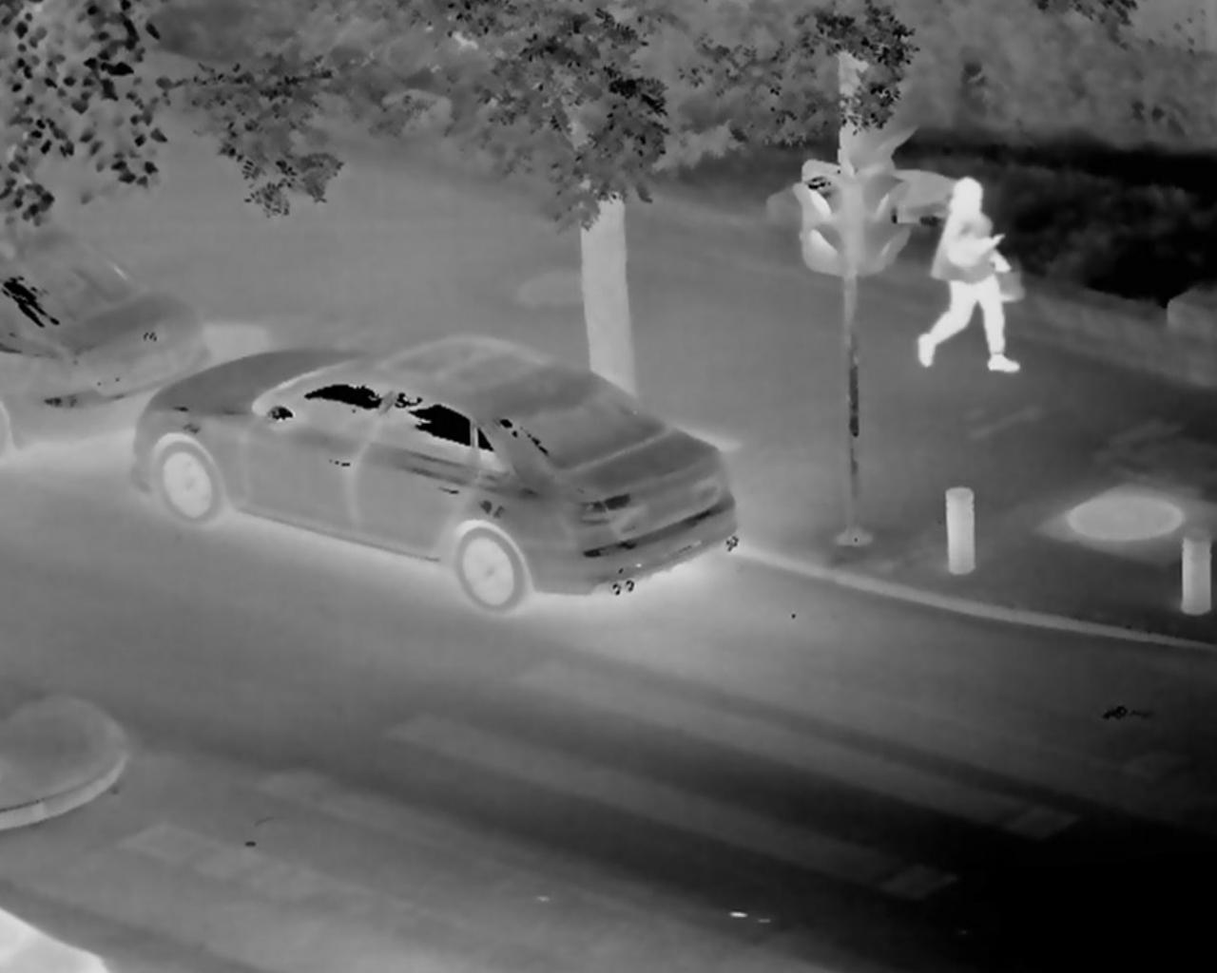person: (909, 170, 1043, 382)
